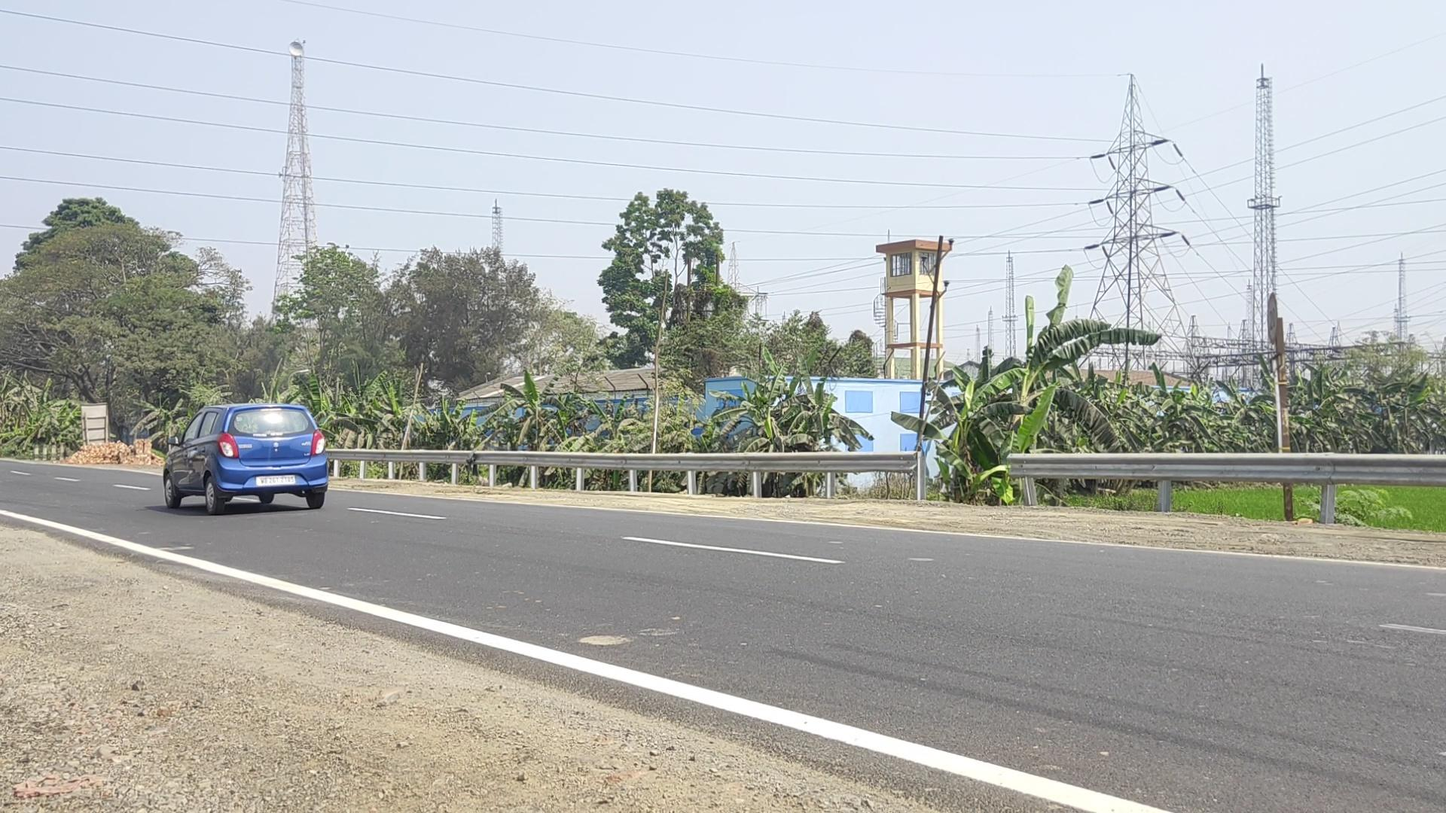car: (163, 403, 328, 516)
